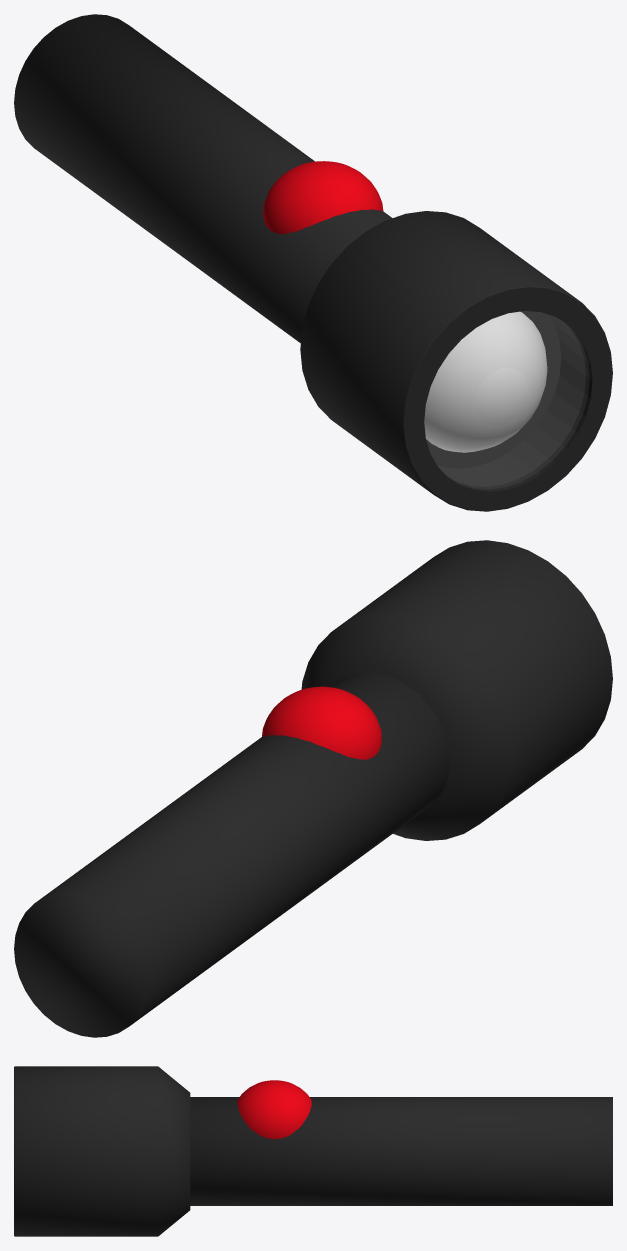
The model's file is lightTorchUpgraded.fbx.
3 renders of one model, top to bottom at view 1: azimuth 30°, elevation 25°; view 2: azimuth 150°, elevation 25°; view 3: azimuth 270°, elevation 25°, orthographic. The views are drawn at different scales.
Visible parts, largest first — view 1: Cylinder.001, Cylinder, Sphere, Sphere.001; view 2: Cylinder.001, Sphere.001; view 3: Cylinder.001, Sphere.001.
Part boxes in pixels (x1,y1,x2,y2): Cylinder.001: (14, 14, 612, 511); Cylinder: (425, 311, 585, 486); Sphere: (424, 311, 547, 452); Sphere.001: (263, 161, 383, 233); Cylinder.001: (14, 540, 612, 1037); Sphere.001: (262, 686, 381, 759); Cylinder.001: (14, 1066, 612, 1236); Sphere.001: (237, 1080, 311, 1139).
Size of the model in its own units: 200 by 200 by 703.
